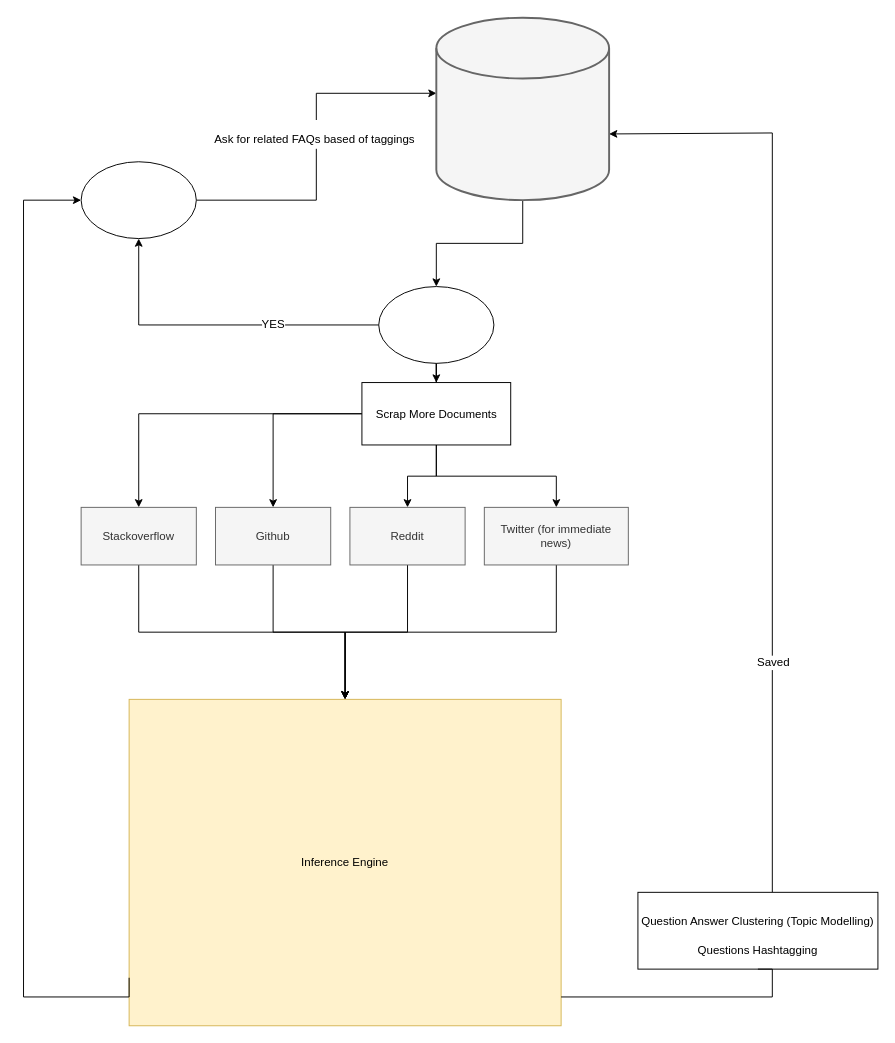
Image size: 895x1043. Some labels were removed from this diagram. Each missing label, with the box of its shape:
FAQs Repository: (435, 16, 610, 201)
If questions is more than satisfied: (378, 286, 494, 363)
User Demands: (80, 161, 196, 239)
